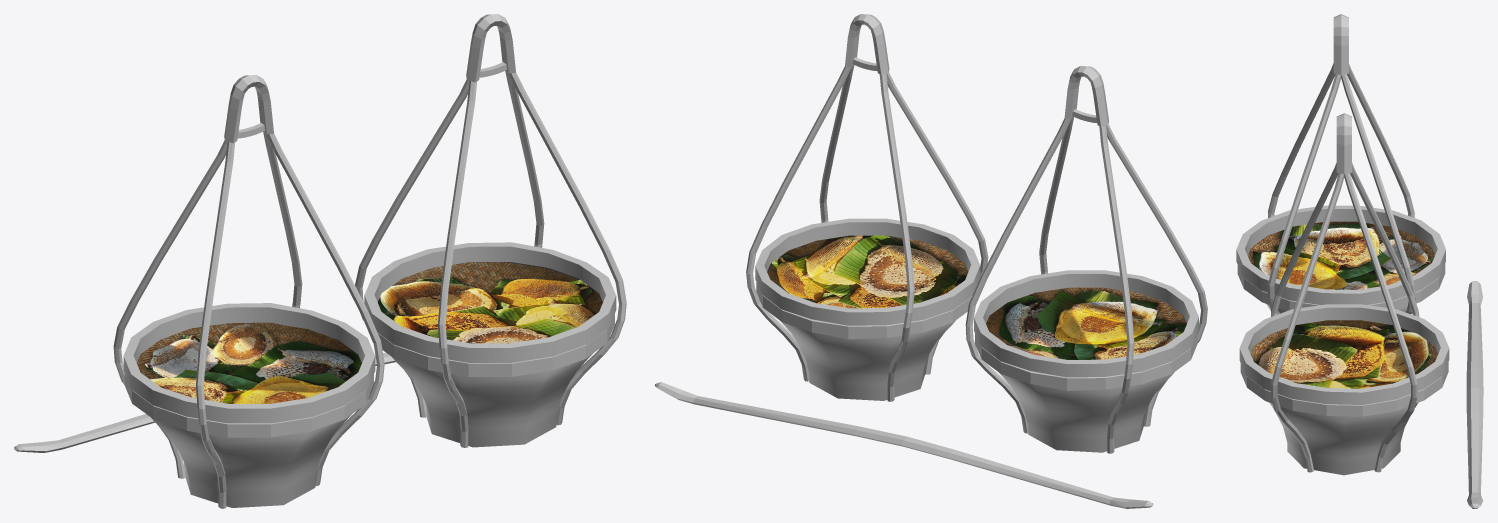
The model's file is avika-honey_vendor_ver1[lowpoly].FBX.
3 renders of one model, left to right at view 1: azimuth 30°, elevation 25°; view 2: azimuth 150°, elevation 25°; view 3: azimuth 270°, elevation 25°, orthographic. The views are drawn at different scales.
Visible parts, largest first — view 1: basket, honey1, honey2; view 2: basket, honey1, honey2; view 3: basket, honey1, honey2.
Part boxes in pixels (x1,y1,x2,y2): basket: [14, 14, 626, 508]; honey1: [378, 262, 602, 343]; honey2: [137, 322, 361, 403]; basket: [655, 14, 1207, 508]; honey1: [767, 235, 968, 308]; honey2: [986, 287, 1186, 359]; basket: [1236, 14, 1483, 508]; honey1: [1250, 320, 1437, 388]; honey2: [1247, 221, 1434, 289].
Bounding box in the file's own units: 1.82 × 1.27 × 0.8395.
